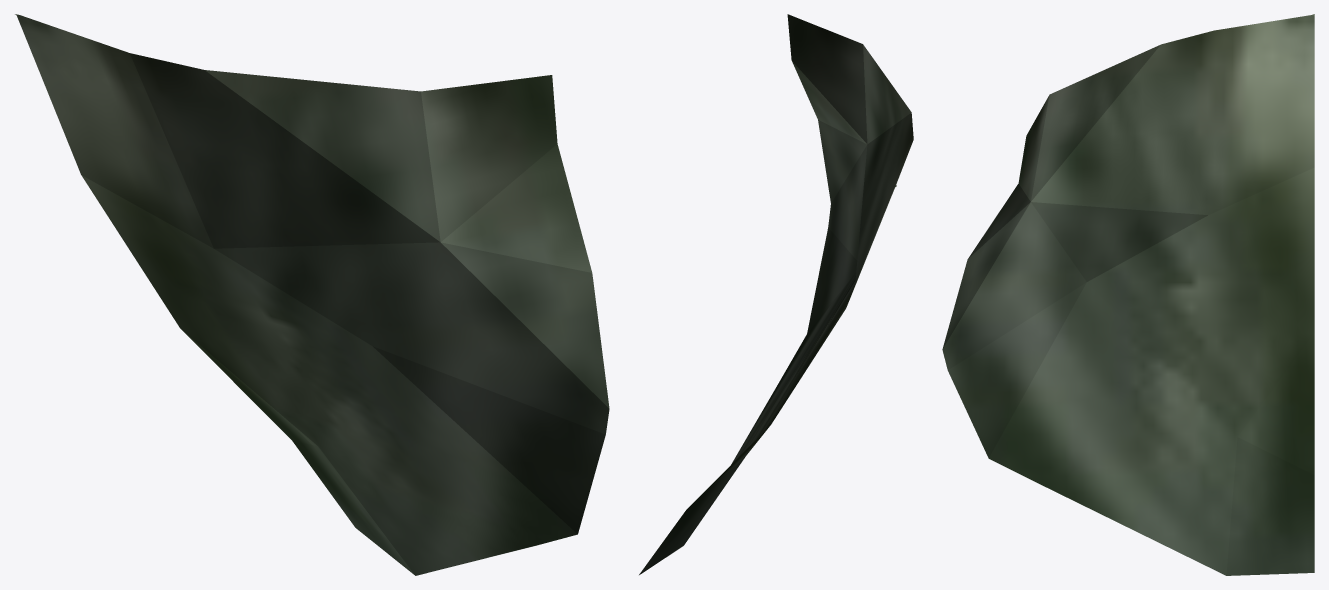
3 views of the same model, side by side, from view 1: azimuth 30°, elevation 25°; view 2: azimuth 150°, elevation 25°; view 3: azimuth 270°, elevation 25° (orthographic). The views are drawn at different scales.
Bounding box in the file's own units: 0.387 × 0.6521 × 0.4997.
Materials: 1 (1 with a texture image).
